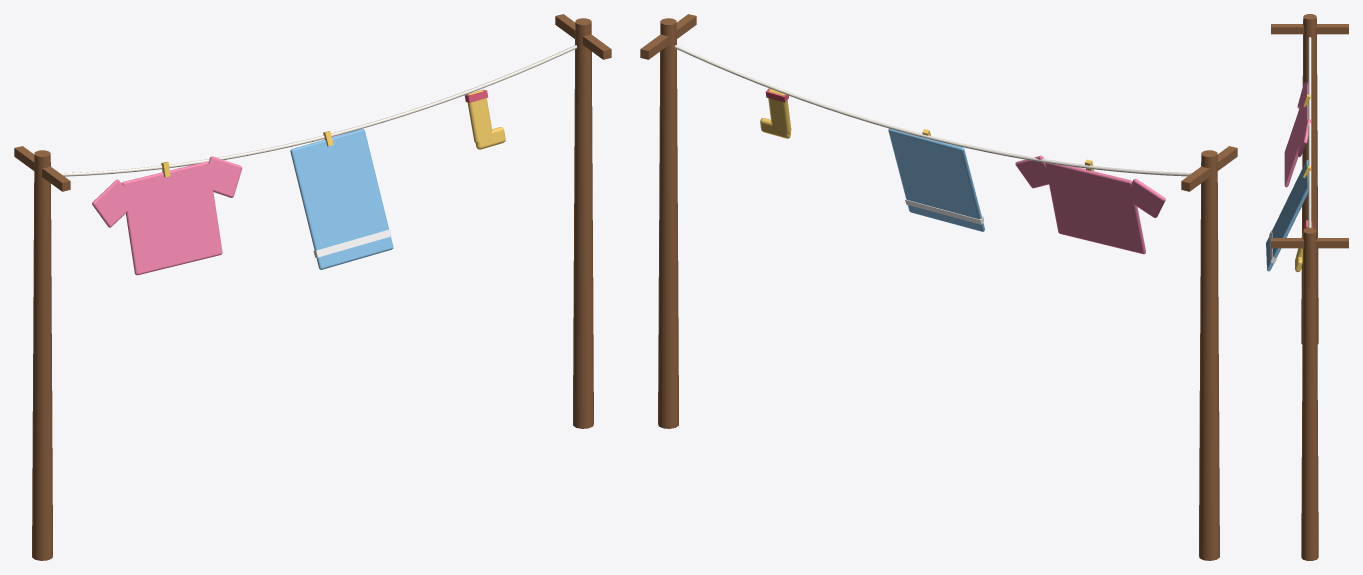
Rendered from clothesline.glb.
3 renders of one model, left to right at view 1: azimuth 30°, elevation 25°; view 2: azimuth 150°, elevation 25°; view 3: azimuth 270°, elevation 25°, orthographic. The views are drawn at different scales.
Size of the model in its own units: 2.69 by 1.85 by 0.4257.
